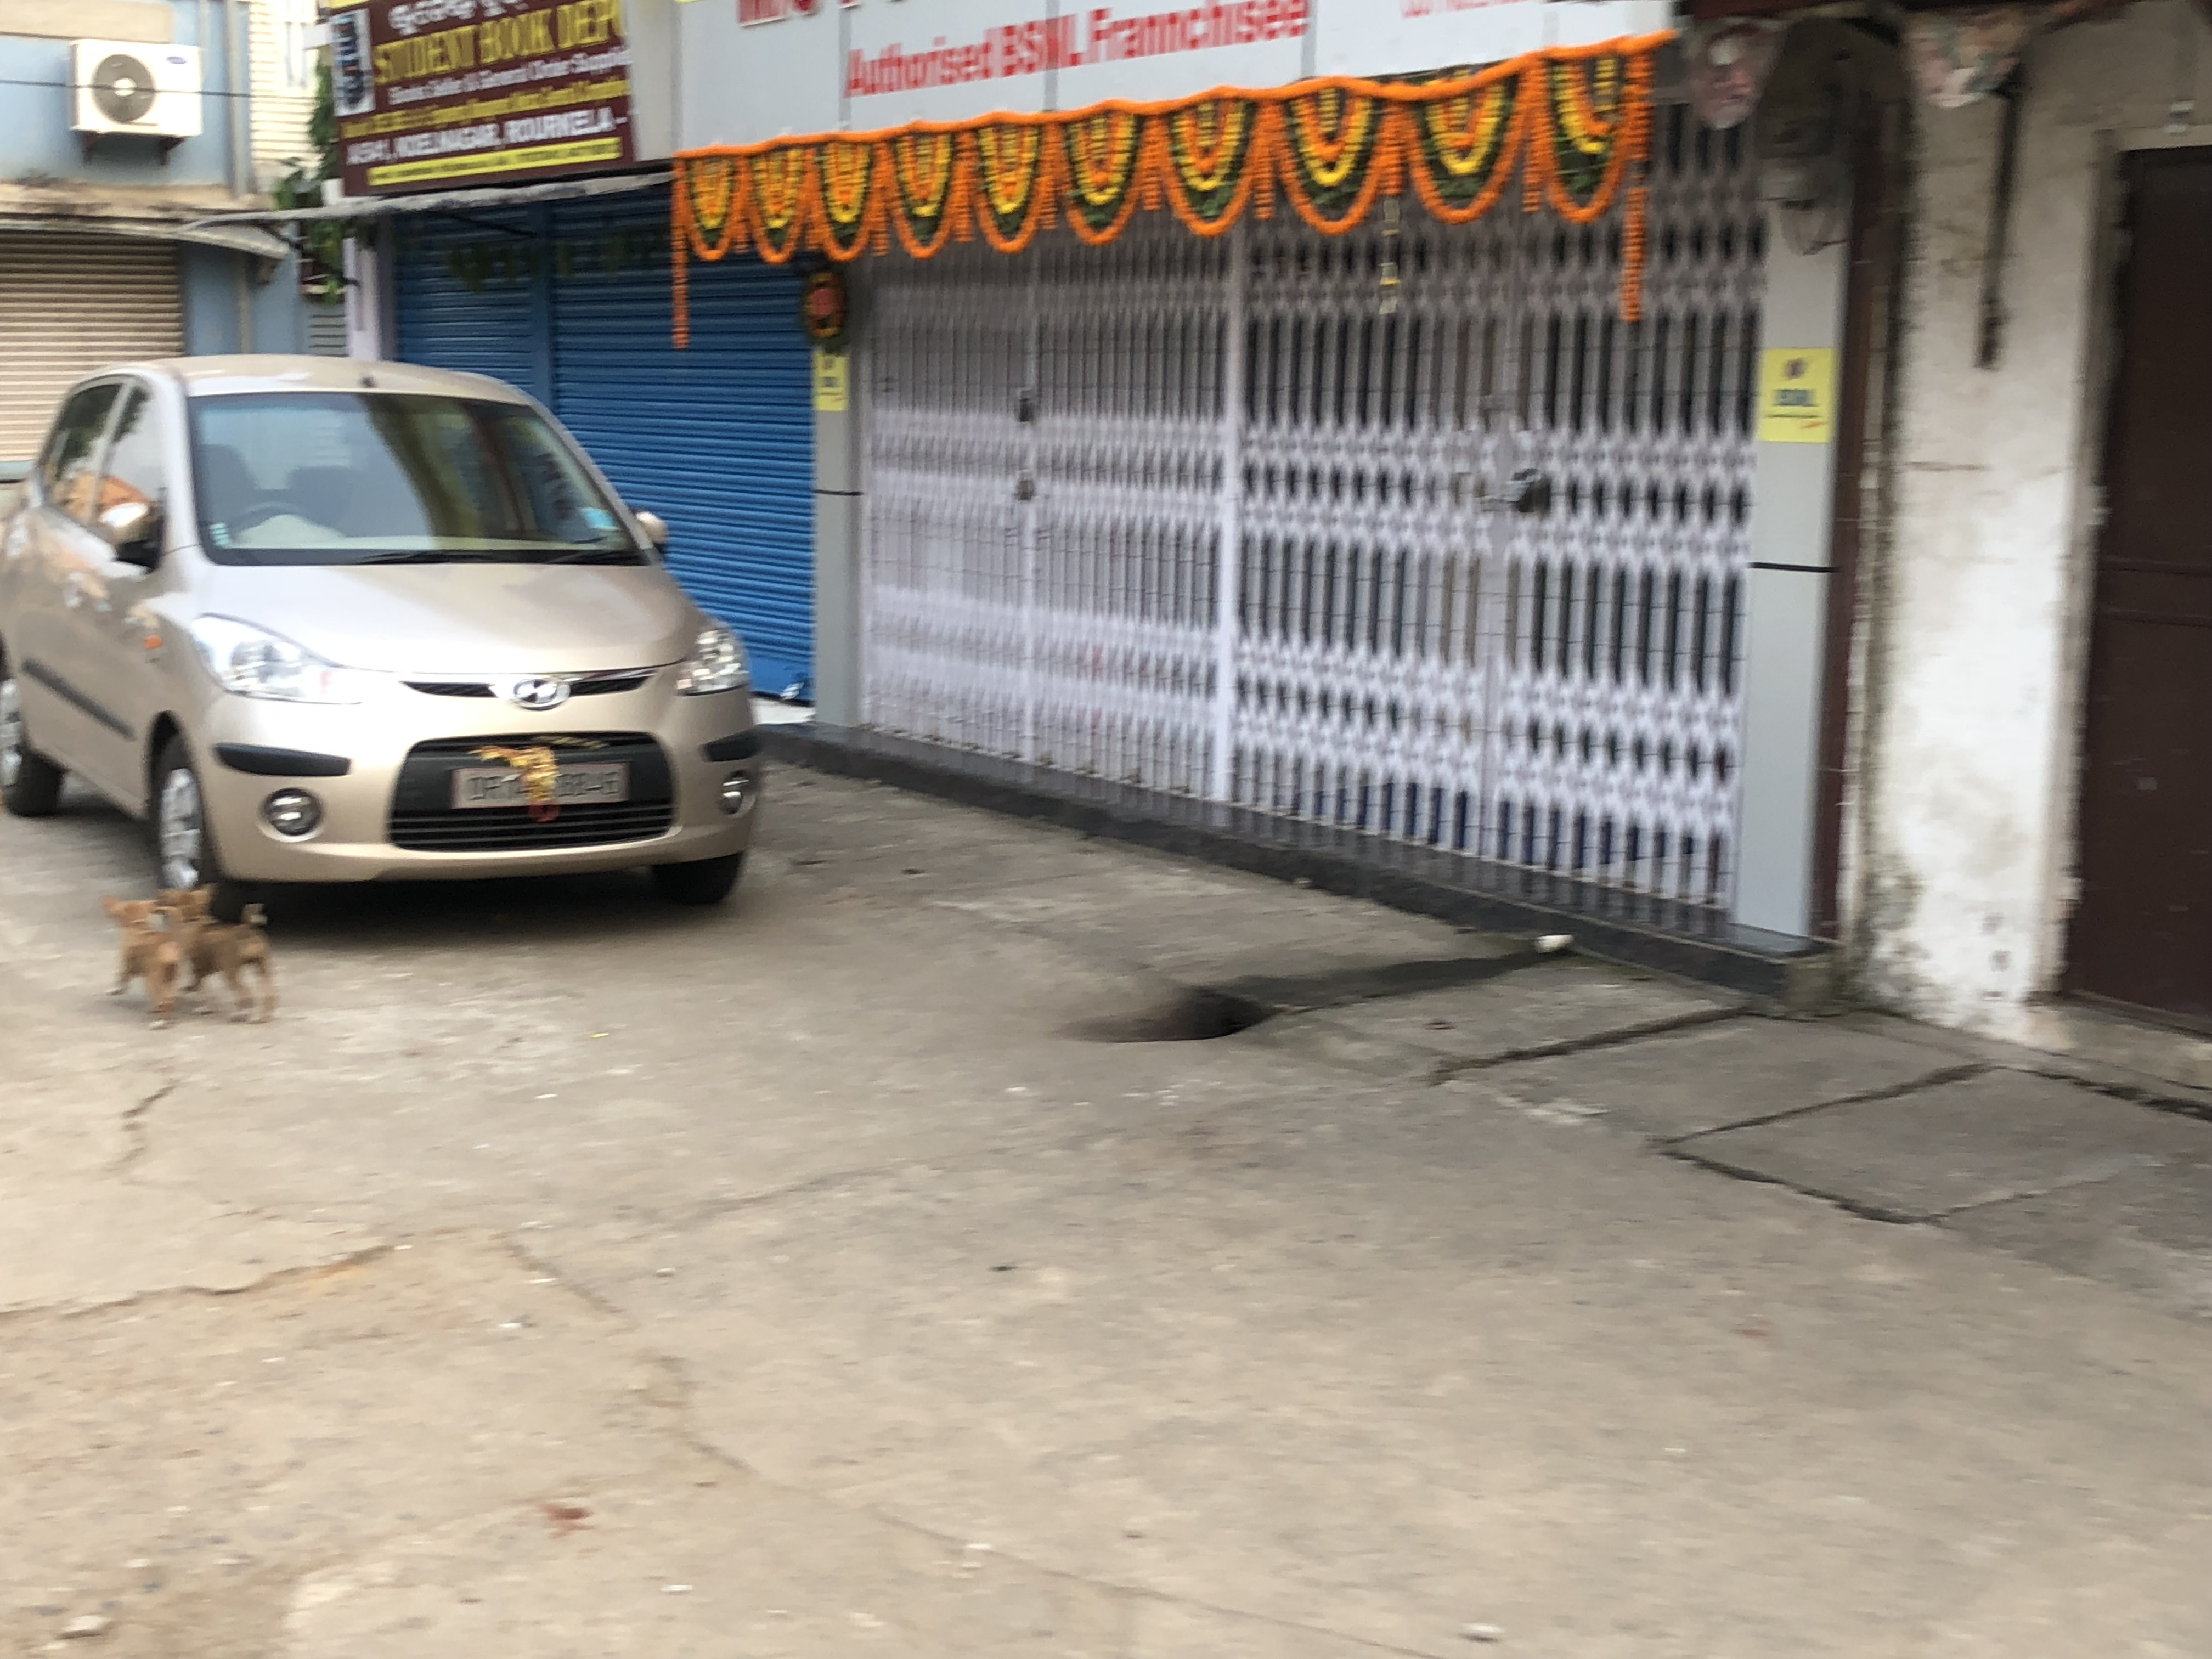licenseplate: (444, 758, 641, 821)
